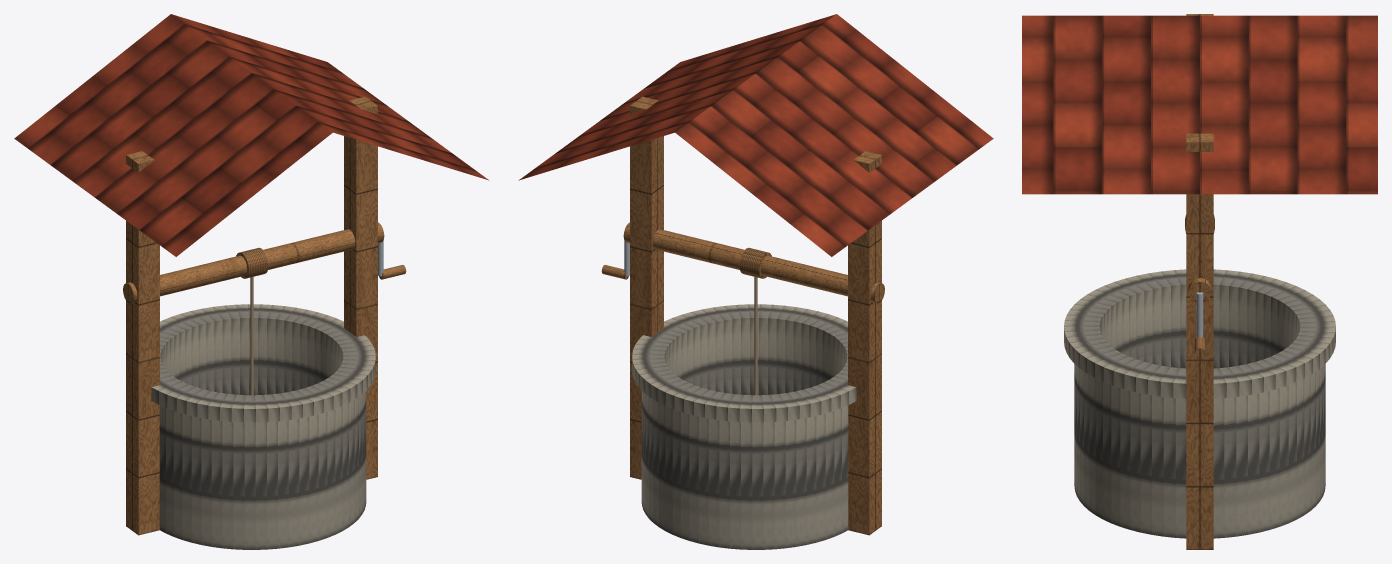
File: Kut_tetos.obj
3 views of the same model, side by side, from view 1: azimuth 30°, elevation 25°; view 2: azimuth 150°, elevation 25°; view 3: azimuth 270°, elevation 25° (orthographic). The views are drawn at different scales.
Size of the model in its own units: 1.9 by 2.48 by 1.7.
Materials: 6 (3 with a texture image).
